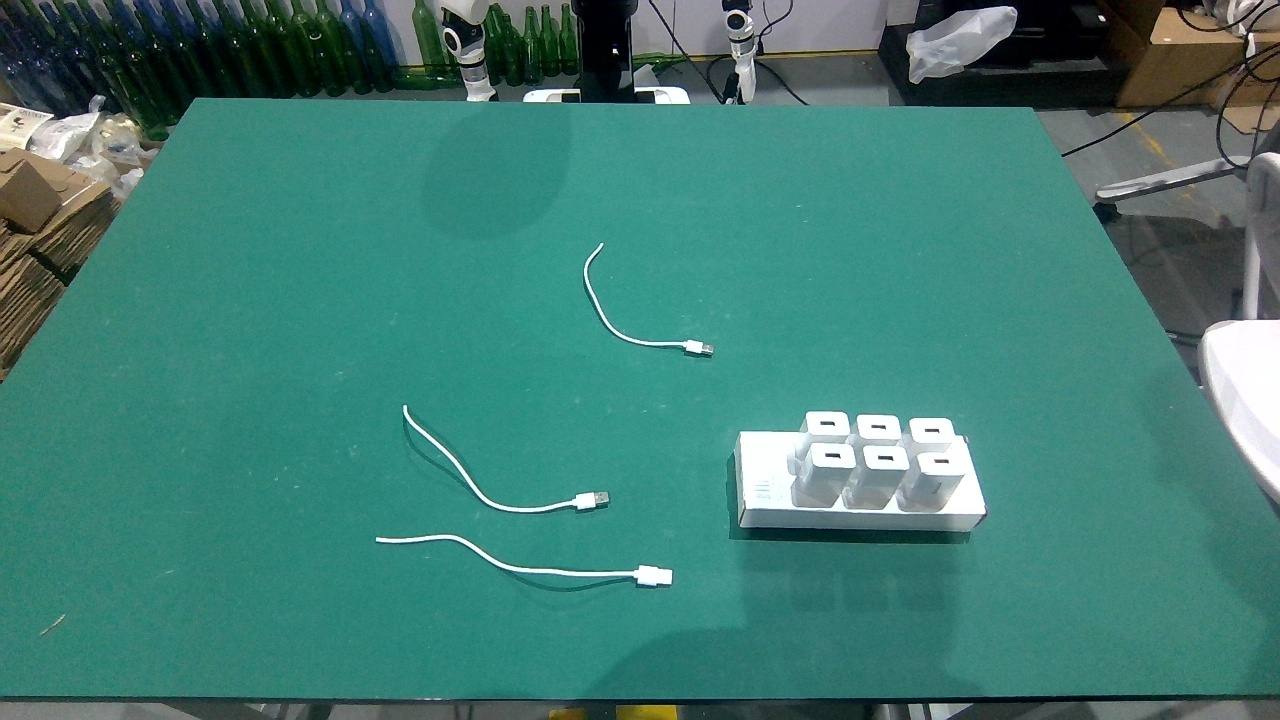usb_a_port: (821, 451, 845, 461), (930, 457, 954, 466), (875, 454, 896, 464), (922, 425, 940, 436), (870, 423, 888, 433), (818, 420, 840, 428)
